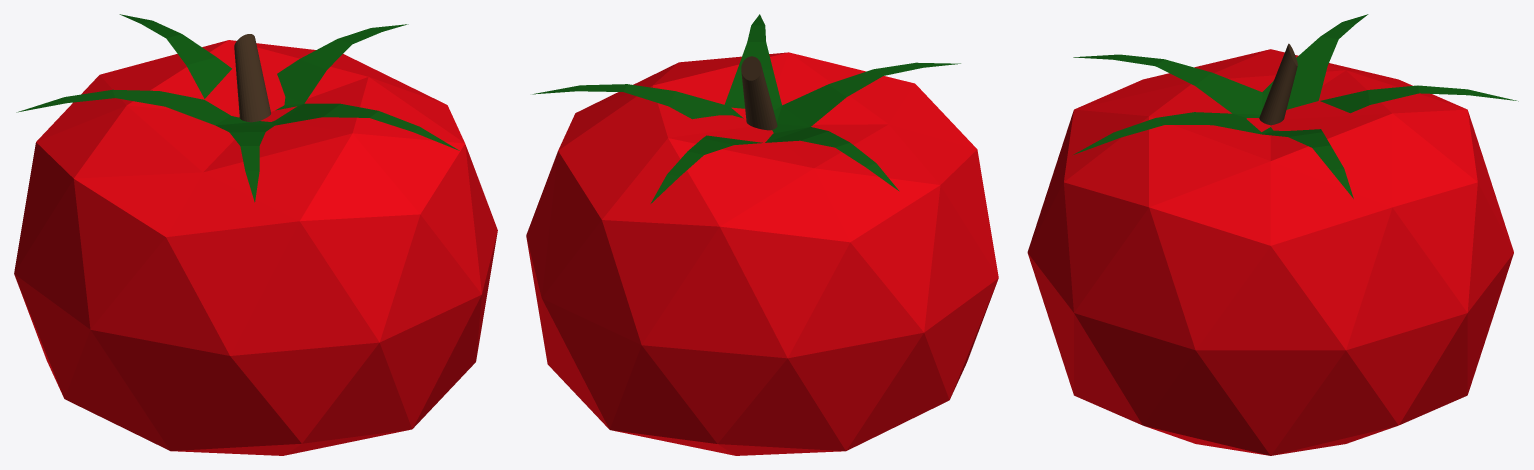
Rendered from tomato.glb.
3 views of the same model, side by side, from view 1: azimuth 30°, elevation 25°; view 2: azimuth 150°, elevation 25°; view 3: azimuth 270°, elevation 25° (orthographic). The views are drawn at different scales.
Parts seen in each view (by area): view 1: Body, Leaves, Stem; view 2: Body, Leaves, Stem; view 3: Body, Leaves, Stem.
Boxes of the visible parts, x1,y1,x2,y2 form: Body: [14, 40, 497, 455]; Leaves: [16, 14, 459, 202]; Stem: [234, 34, 270, 122]; Body: [526, 52, 998, 455]; Leaves: [532, 14, 960, 203]; Stem: [741, 56, 777, 130]; Body: [1027, 49, 1513, 455]; Leaves: [1073, 14, 1518, 198]; Stem: [1259, 43, 1297, 125].
Size of the model in its own units: 1.9 by 1.69 by 2.02.
